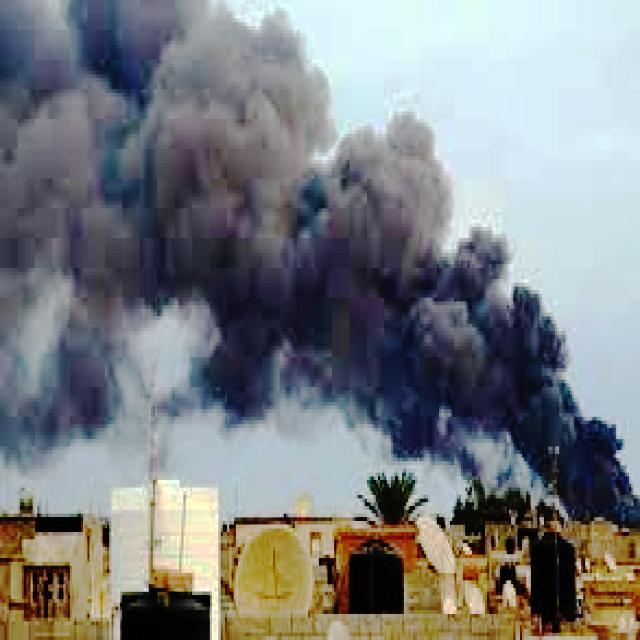asap: (5, 8, 350, 477), (354, 121, 521, 462), (520, 270, 640, 518)
